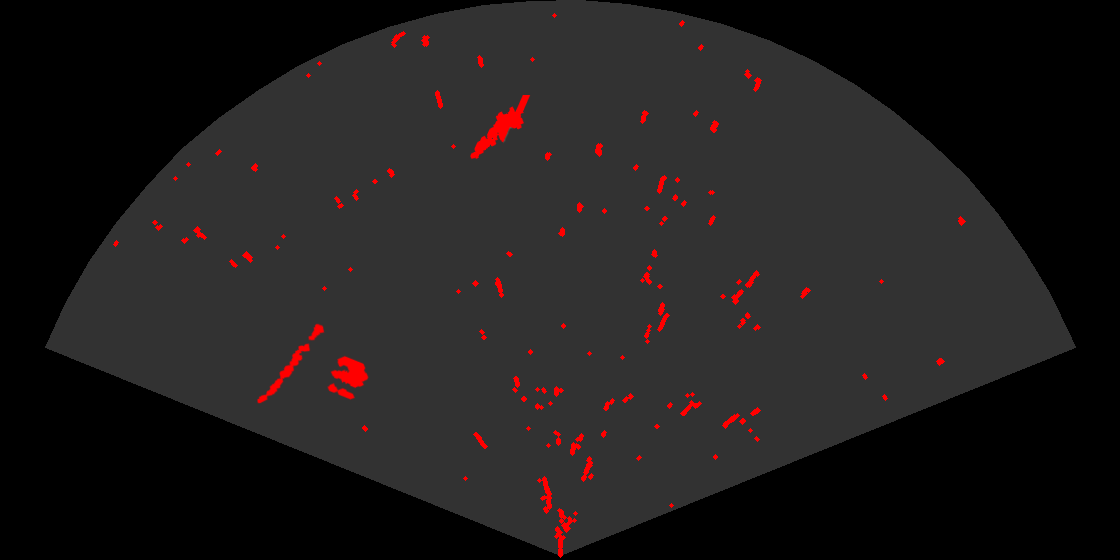ball: (326, 354, 370, 401)
chain: (256, 322, 326, 405)
frogman: (469, 95, 532, 161)
